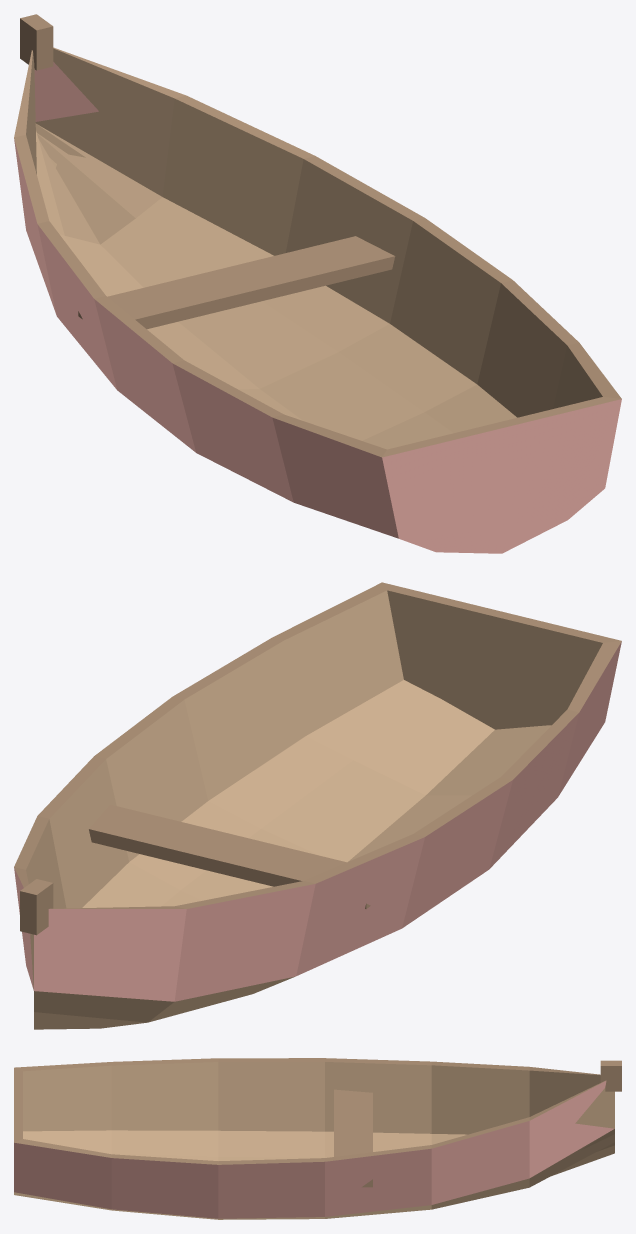
The model's file is boat.glb.
3 renders of one model, top to bottom at view 1: azimuth 30°, elevation 25°; view 2: azimuth 150°, elevation 25°; view 3: azimuth 270°, elevation 25°, orthographic. The views are drawn at different scales.
Visible parts, largest first — view 1: boat; view 2: boat; view 3: boat.
Boxes of the visible parts, x1,y1,x2,y2 form: boat: (14, 14, 621, 553); boat: (14, 582, 621, 1029); boat: (14, 1058, 621, 1219).
Size of the model in its own units: 1.42 by 0.86 by 3.42.
